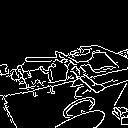cube: (42, 58, 73, 87)
